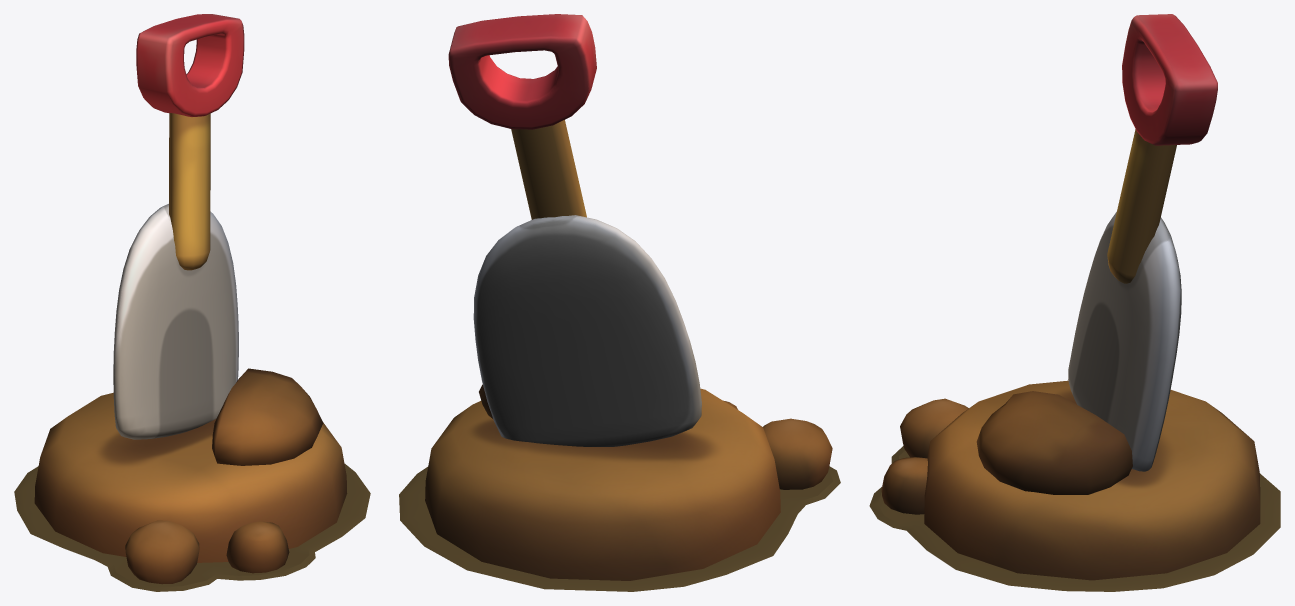
File: Shavel.fbx
The picture shows the model from 3 angles, left to right: view 1: azimuth 30°, elevation 25°; view 2: azimuth 150°, elevation 25°; view 3: azimuth 270°, elevation 25°; orthographic projection. The views are drawn at different scales.
Visible parts, largest first — view 1: Shavel_base, Shavel_body, Shavel_SDW; view 2: Shavel_body, Shavel_base, Shavel_SDW; view 3: Shavel_base, Shavel_body, Shavel_SDW.
Boxes of the visible parts, box(x1,y1,x2,y2) form: Shavel_base: box(34, 368, 347, 584); Shavel_body: box(113, 14, 244, 439); Shavel_SDW: box(14, 463, 370, 591); Shavel_body: box(448, 14, 701, 446); Shavel_base: box(425, 384, 832, 580); Shavel_SDW: box(399, 466, 840, 591); Shavel_base: box(881, 380, 1260, 580); Shavel_body: box(1068, 14, 1217, 471); Shavel_SDW: box(869, 446, 1280, 591).
Size of the model in its own units: 82.87 by 115 by 86.91.
2 materials, 1 textured.
